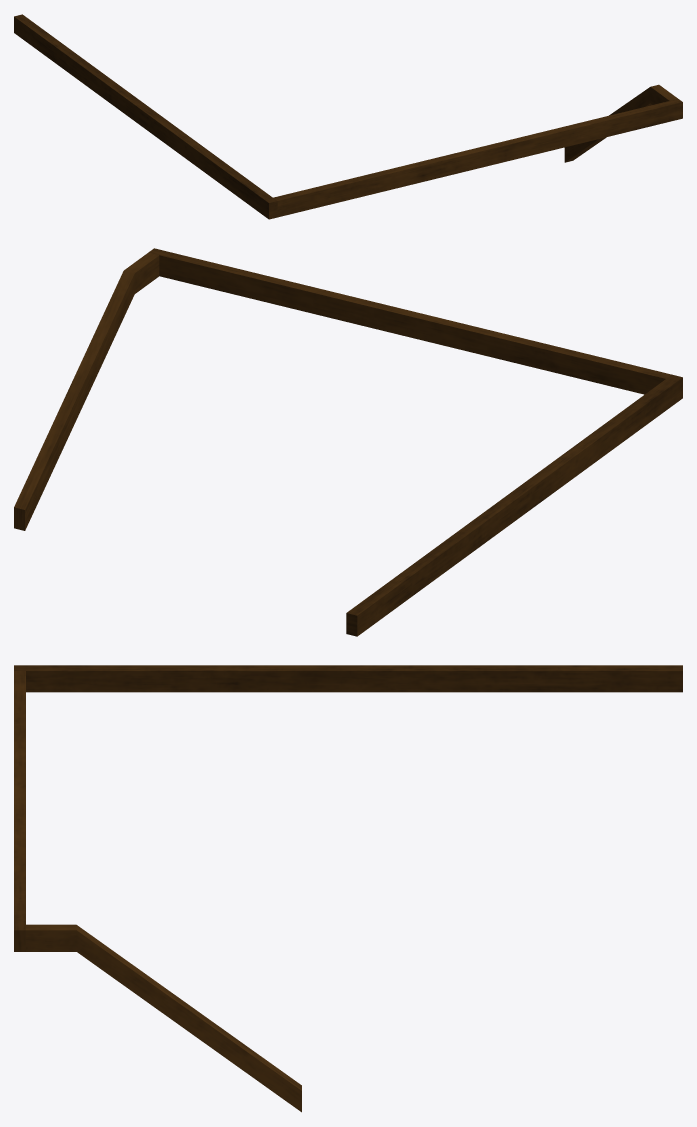
File: Trimming.fbx
3 views of the same model, one above another, from view 1: azimuth 30°, elevation 25°; view 2: azimuth 150°, elevation 25°; view 3: azimuth 270°, elevation 25° (orthographic). The views are drawn at different scales.
Parts seen in each view (by area): view 1: trimming; view 2: trimming; view 3: trimming.
Boxes of the visible parts, x1,y1,x2,y2 form: trimming: (14,14,682,219); trimming: (14,248,682,636); trimming: (14,665,682,1112).
Bounding box in the file's own units: 870 × 279 × 928.
